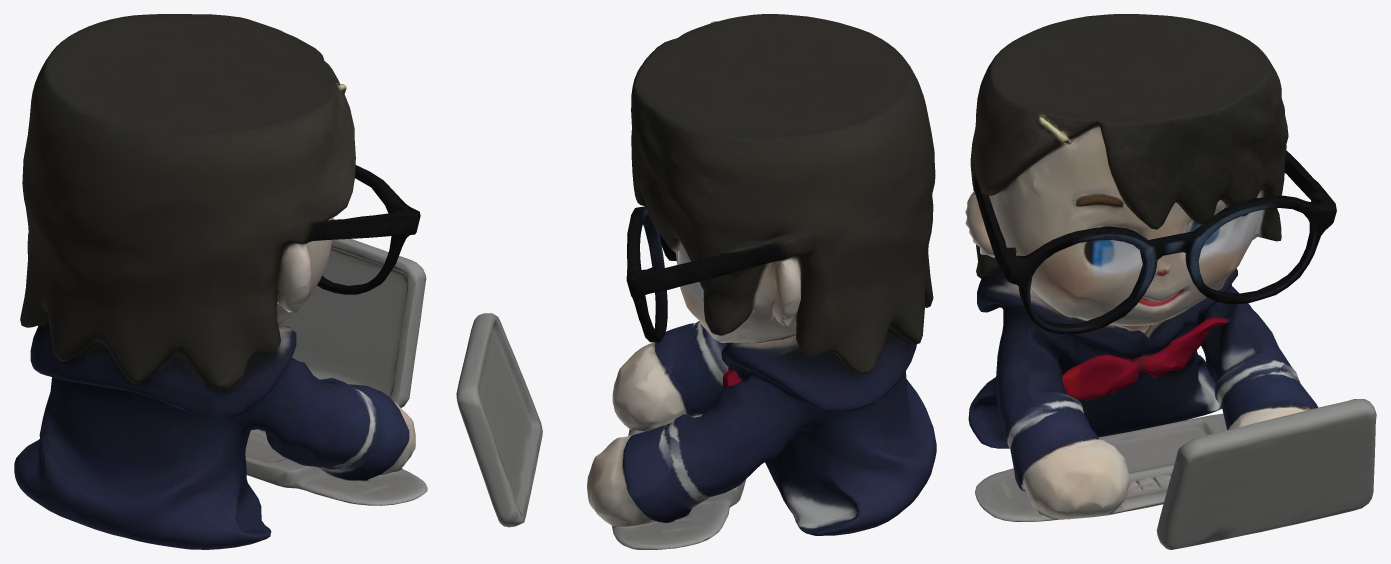
The model's file is supporter-041.glb.
The picture shows the model from 3 angles, left to right: view 1: azimuth 30°, elevation 25°; view 2: azimuth 150°, elevation 25°; view 3: azimuth 270°, elevation 25°; orthographic projection. The views are drawn at different scales.
Visible parts, largest first — view 1: tripo_node_36ce28dc-25fa-49d7-9a3d-9ebfb28d8cd2; view 2: tripo_node_36ce28dc-25fa-49d7-9a3d-9ebfb28d8cd2; view 3: tripo_node_36ce28dc-25fa-49d7-9a3d-9ebfb28d8cd2.
Boxes of the visible parts, x1,y1,x2,y2 form: tripo_node_36ce28dc-25fa-49d7-9a3d-9ebfb28d8cd2: [14, 14, 427, 549]; tripo_node_36ce28dc-25fa-49d7-9a3d-9ebfb28d8cd2: [456, 14, 936, 549]; tripo_node_36ce28dc-25fa-49d7-9a3d-9ebfb28d8cd2: [965, 14, 1376, 549].
Size of the model in its own units: 0.2682 by 0.25 by 0.2474.
Materials: 1 (1 with a texture image).
